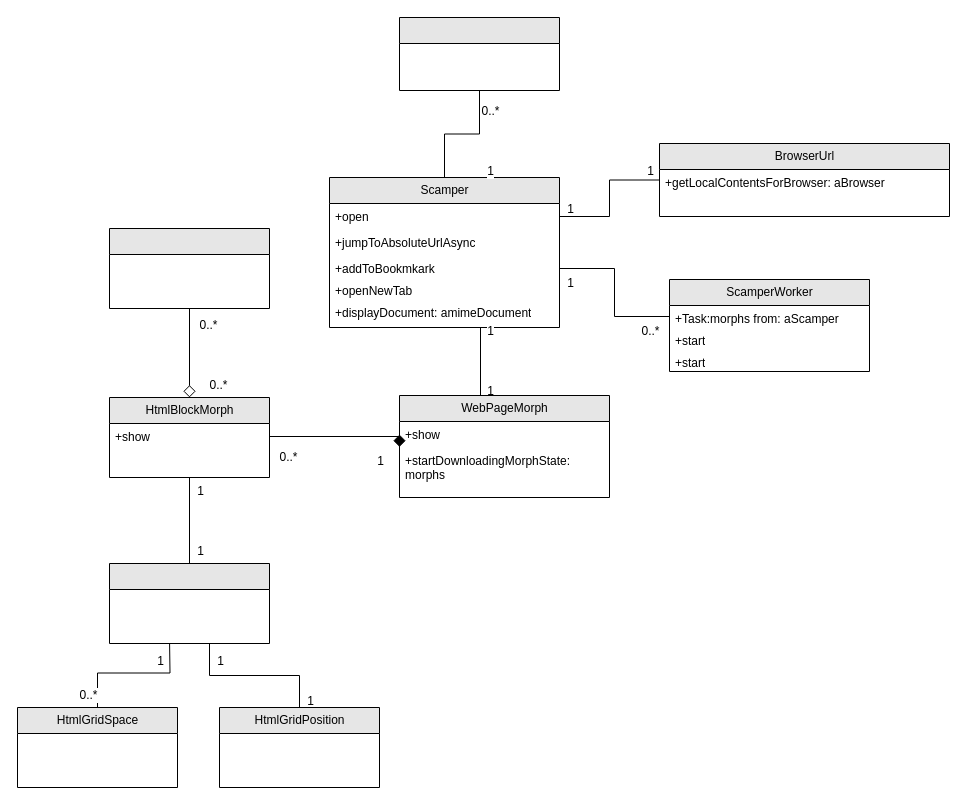
The diagram is 967 pixels wide and 805 high, and some of its shapes have lost their labels. The centre of each missing label's shape, as x and y in pixels:
HtmlGridLayout: the point at 189,603
HtmlInlineMorph: the point at 189,268
ScamperButton: the point at 479,53
